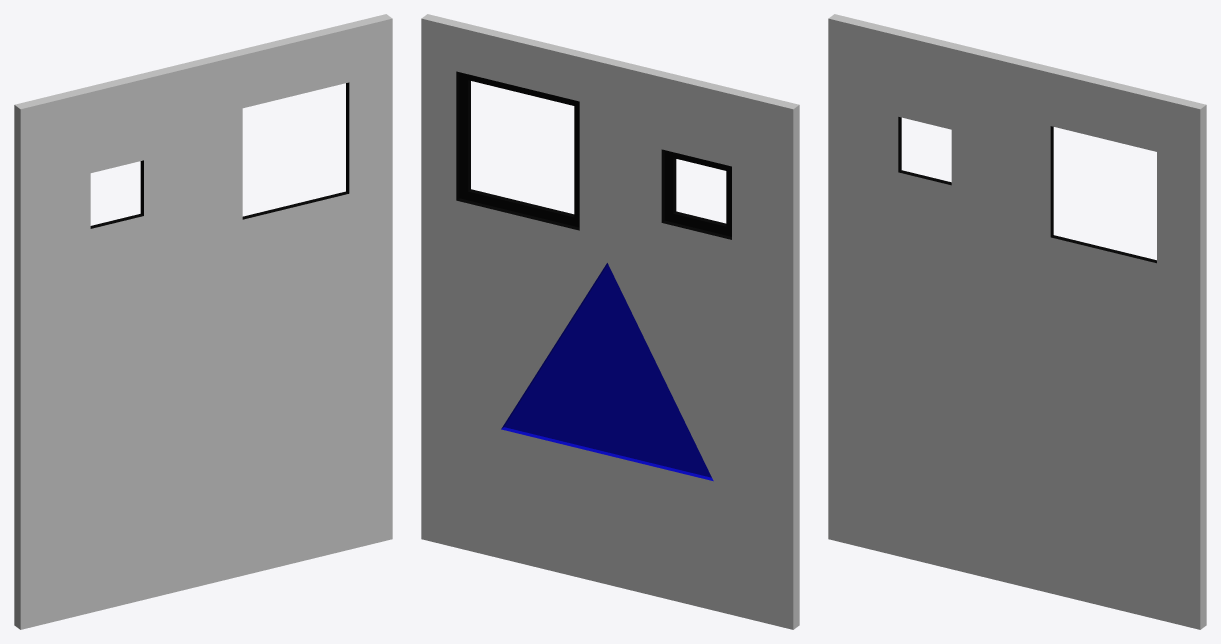
The model's file is blue_triangle.dae.
3 renders of one model, left to right at view 1: azimuth 30°, elevation 25°; view 2: azimuth 150°, elevation 25°; view 3: azimuth 330°, elevation 25°, orthographic.
Visible parts, largest first — view 1: ShapeIndexedFaceSet_001; view 2: ShapeIndexedFaceSet_001; view 3: ShapeIndexedFaceSet_001.
Part boxes in pixels (x1,y1,x2,y2): ShapeIndexedFaceSet_001: [14, 14, 392, 629]; ShapeIndexedFaceSet_001: [421, 14, 799, 629]; ShapeIndexedFaceSet_001: [828, 14, 1206, 629].
Size of the model in its own units: 1.75 by 0.0508 by 2.34.
